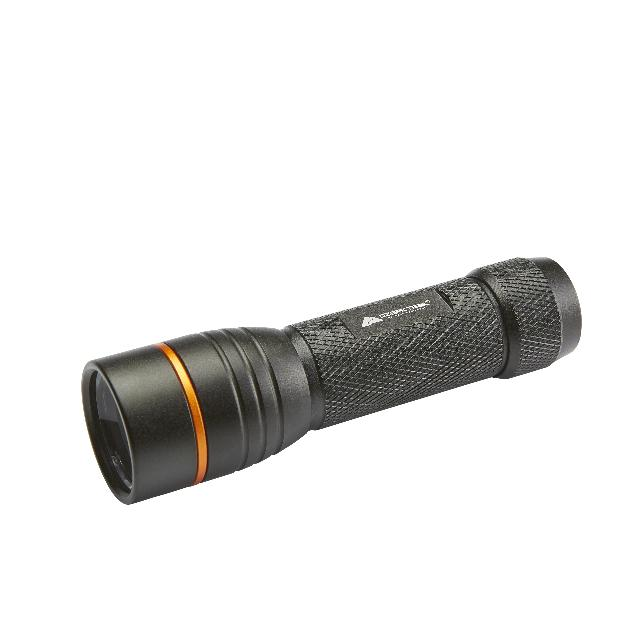Flashlight: (75, 247, 590, 513)
